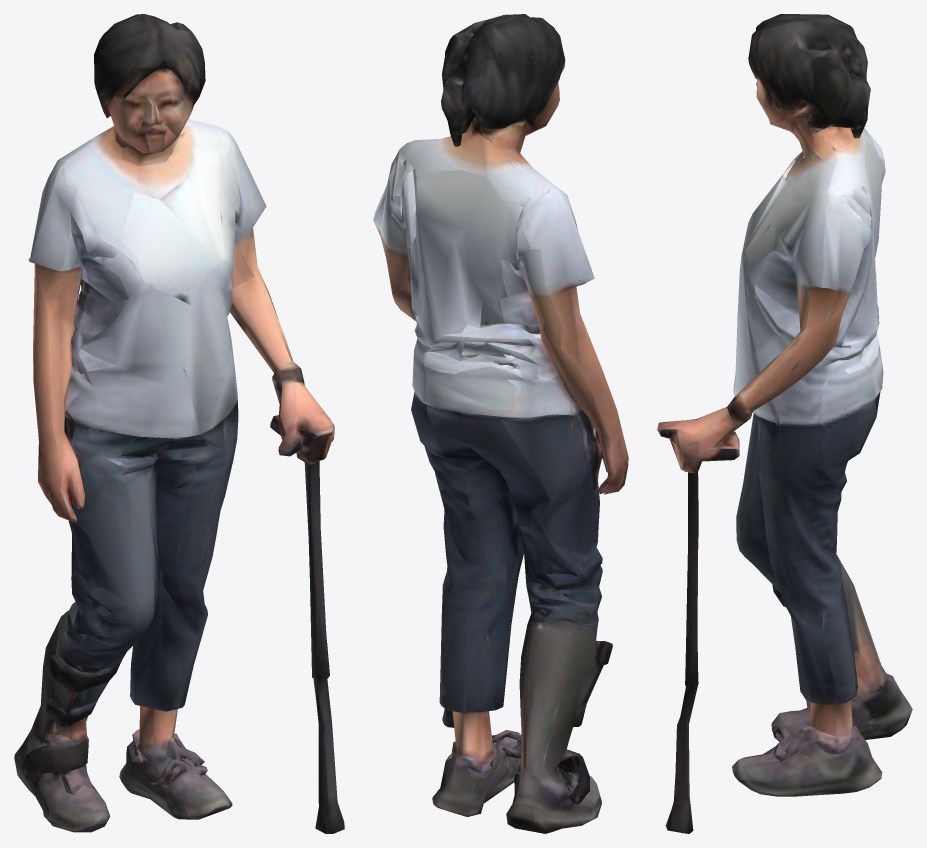
Rendered from person_03.glb.
The picture shows the model from 3 angles, left to right: view 1: azimuth 30°, elevation 25°; view 2: azimuth 150°, elevation 25°; view 3: azimuth 270°, elevation 25°; orthographic projection. The views are drawn at different scales.
Parts seen in each view (by area): view 1: Human_Rig; view 2: Human_Rig; view 3: Human_Rig.
Boxes of the visible parts, x1=… form: Human_Rig: x1=14, y1=14, x2=344, y2=833; Human_Rig: x1=373, y1=14, x2=628, y2=833; Human_Rig: x1=657, y1=14, x2=912, y2=833.
Bounding box in the file's own units: 0.5162 × 1.62 × 0.4925.
1 material, 1 textured.
